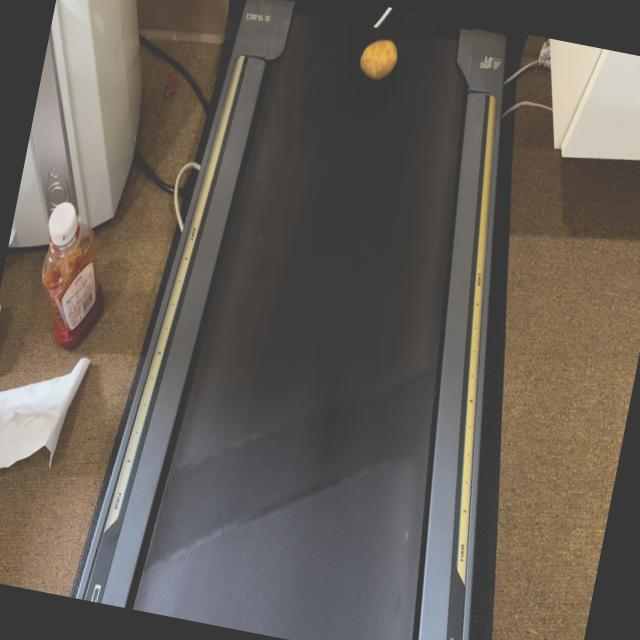Trash: (354, 36, 400, 83)
